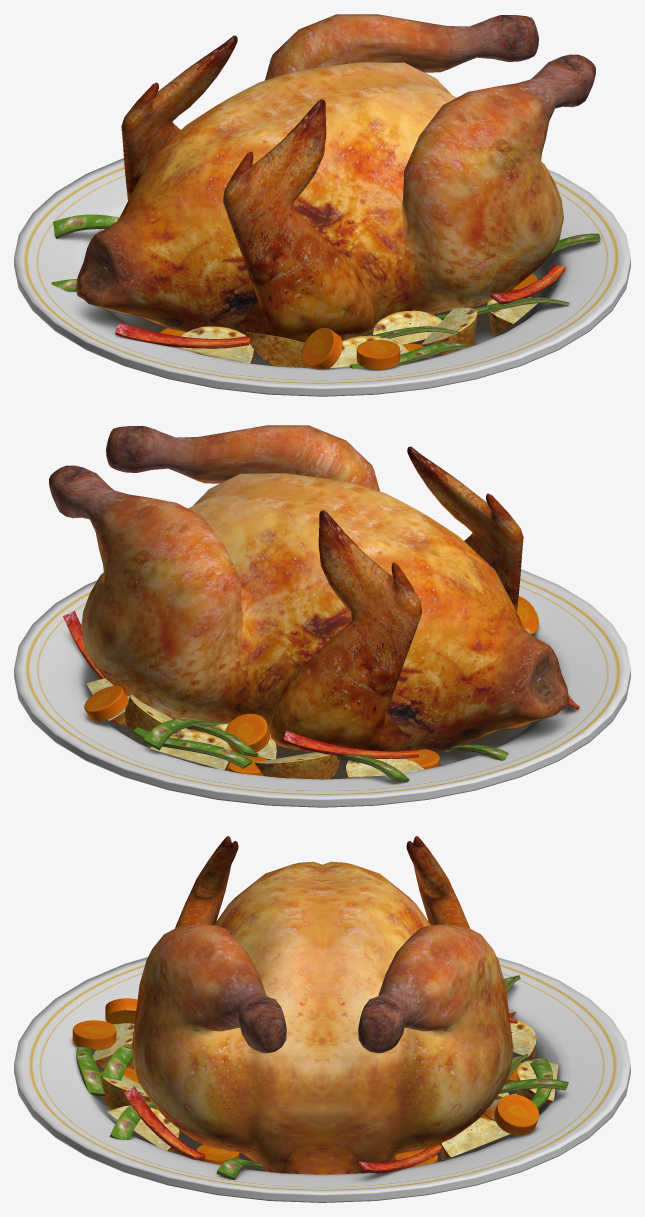
File: chicken.gltf
The picture shows the model from 3 angles, top to bottom: view 1: azimuth 30°, elevation 25°; view 2: azimuth 150°, elevation 25°; view 3: azimuth 270°, elevation 25°; orthographic projection.
Visible parts, largest first — view 1: high_1; view 2: high_1; view 3: high_1.
Part boxes in pixels (x1,y1,x2,y2): high_1: [14, 14, 630, 396]; high_1: [14, 425, 630, 807]; high_1: [14, 836, 630, 1202].
Bounding box in the file's own units: 0.4065 × 0.1828 × 0.4065.
Materials: 2 (2 with a texture image).
